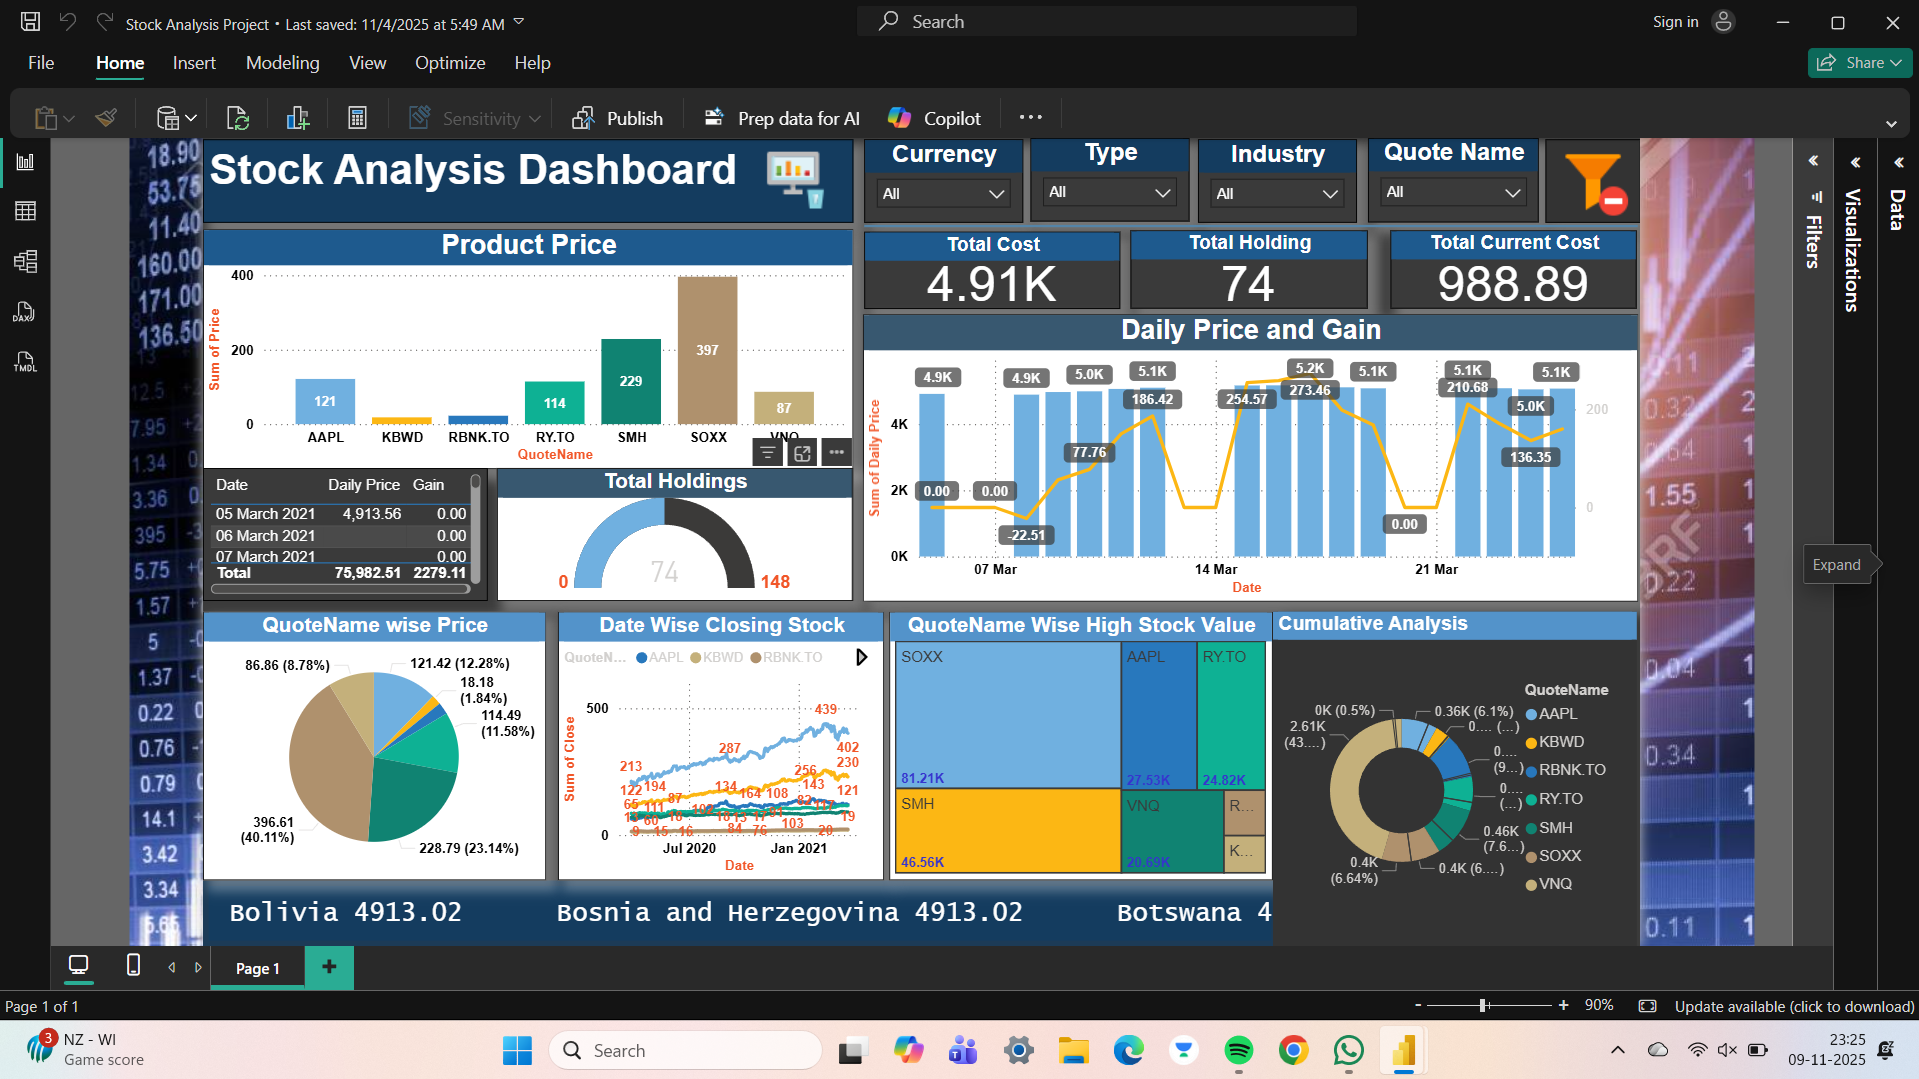

What the dashboard file says about the page in this screenshot:
{"tool":"powerbi","page":{"name":"Page 1","canvas":[1280,720],"ordinal":0},"visuals":[{"type":"textbox","box":[0,1.4,579.1,74.1],"z":0},{"type":"image","box":[466.7,1.1,122.2,73.3],"z":1000},{"type":"slicer","title":"Currency","fields":{"Values":["Type.Currency"]},"box":[588.7,1.4,141.3,74.1],"z":2000},{"type":"slicer","title":"Type","fields":{"Values":["Type.Type"]},"box":[736.9,0,141.3,74.1],"z":3000},{"type":"slicer","title":"Industry","fields":{"Values":["Type.Industry"]},"box":[886.5,1.4,141.3,74.1],"z":4000},{"type":"slicer","title":"Quote Name","fields":{"Values":["Type.QuoteName"]},"box":[1037.4,0,152.3,75.5],"z":5000},{"type":"image","box":[1195.2,1.4,85.1,74.1],"z":6000},{"type":"columnChart","title":"Product Price","fields":{"Category":["Holdings.QuoteName"],"Y":["Sum(Holdings.Price)"],"Series":["Holdings.QuoteName"]},"box":[0,80.8,579.1,213.5],"z":7000},{"type":"card","title":"Total Cost","fields":{"Values":["Sum(Holdings.Cost)"]},"box":[588.7,83.2,228,68.8],"z":8000},{"type":"card","title":"Total Holding","fields":{"Values":["Sum(Holdings.Holdings)"]},"box":[826.4,82,211.1,70],"z":9000},{"type":"card","title":"Total Current Cost","fields":{"Values":["Sum(Holdings.Price)"]},"box":[1058,82,219.6,70],"z":10000},{"type":"shape","box":[588.7,72.4,688.9,12.1],"z":11000},{"type":"lineClusteredColumnComboChart","title":"Daily Price and Gain","fields":{"Y":["Sum(dailygain.Daily Price)"],"Category":["dailygain.Date"],"Y2":["Sum(dailygain.Gain)"]},"box":[587.5,156.8,690.1,255.8],"z":12000},{"type":"tableEx","fields":{"Values":["dailygain.Date","Sum(dailygain.Daily Price)","Sum(dailygain.Gain)"]},"box":[0,294.4,253.4,118.2],"z":13000},{"type":"gauge","title":"Total Holdings","fields":{"Y":["Sum(Holdings.Holdings)"]},"box":[261.8,294.4,317.3,118.2],"z":14000},{"type":"ScrollingTextVisual1448795304508","fields":{"Category":["CountryNames.Country"],"Measure Absolute":["Sum(Holdings.Cost)"]},"box":[0,661.1,956.7,59.1],"z":15000},{"type":"pieChart","title":"QuoteName wise Price","fields":{"Y":["Sum(Holdings.Price)"],"Category":["Holdings.QuoteName"]},"box":[0,422.3,305.2,238.9],"z":16000},{"type":"lineChart","title":"Date Wise Closing Stock","fields":{"Category":["Stock.Date"],"Y":["Sum(Stock.Close)"],"Series":["Stock.QuoteName"]},"box":[316.1,422.3,290.8,238.9],"z":17000},{"type":"treemap","title":"QuoteName Wise High Stock Value","fields":{"Group":["Stock.QuoteName"],"Values":["Sum(Stock.High)"]},"box":[611.7,422.3,341.4,238.9],"z":18000},{"type":"donutChart","title":"Cumulative Analysis","fields":{"Y":["Sum(Holdings.Cost)","Sum(Holdings.Holdings)","Sum(Holdings.Price)"],"Category":["Holdings.QuoteName"]},"box":[952.9,421.4,324.3,298.6],"z":19000}]}

Visuals, with their boxes on the page's 1280x720 design canvas (x1, y1, x2, y2). These are canvas units, not pixel positions in the 1919x1079 screenshot, which may show the page scaled, cropped or inside an application window:
textbox: box(0, 1, 579, 76)
image: box(467, 1, 589, 74)
"Currency" slicer: box(589, 1, 730, 76)
"Type" slicer: box(737, 0, 878, 74)
"Industry" slicer: box(886, 1, 1028, 76)
"Quote Name" slicer: box(1037, 0, 1190, 76)
image: box(1195, 1, 1280, 76)
"Product Price" columnChart: box(0, 81, 579, 294)
"Total Cost" card: box(589, 83, 817, 152)
"Total Holding" card: box(826, 82, 1038, 152)
"Total Current Cost" card: box(1058, 82, 1278, 152)
shape: box(589, 72, 1278, 84)
"Daily Price and Gain" lineClusteredColumnComboChart: box(588, 157, 1278, 413)
tableEx - dailygain.Date x Sum(dailygain.Daily Price): box(0, 294, 253, 413)
"Total Holdings" gauge: box(262, 294, 579, 413)
ScrollingTextVisual1448795304508 - CountryNames.Country x Sum(Holdings.Cost): box(0, 661, 957, 720)
"QuoteName wise Price" pieChart: box(0, 422, 305, 661)
"Date Wise Closing Stock" lineChart: box(316, 422, 607, 661)
"QuoteName Wise High Stock Value" treemap: box(612, 422, 953, 661)
"Cumulative Analysis" donutChart: box(953, 421, 1277, 720)
